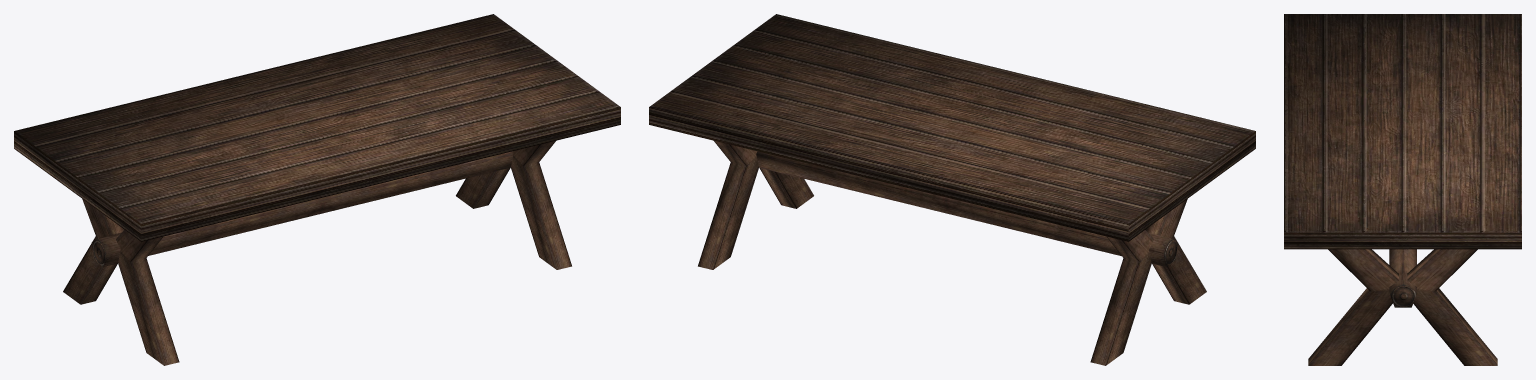
The model's file is GS_LOB_TABLE_HEAVY_ORANGE_01_KOZA.glb.
3 views of the same model, side by side, from view 1: azimuth 30°, elevation 25°; view 2: azimuth 150°, elevation 25°; view 3: azimuth 270°, elevation 25° (orthographic). The views are drawn at different scales.
Parts seen in each view (by area): view 1: Mesh; view 2: Mesh; view 3: Mesh.
Boxes of the visible parts, x1,y1,x2,y2 form: Mesh: [14, 14, 620, 365]; Mesh: [649, 14, 1255, 365]; Mesh: [1284, 14, 1521, 365].
Bounding box in the file's own units: 2.82 × 0.9 × 1.3.
Materials: 3 (3 with a texture image).
